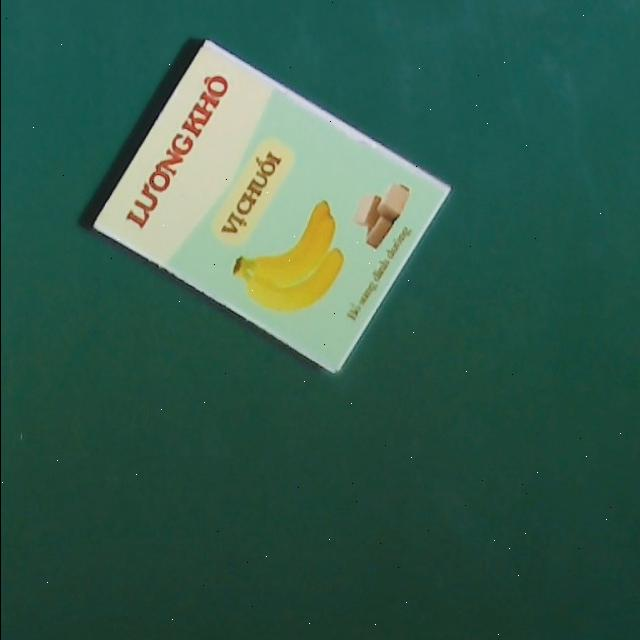chuoi: (89, 37, 449, 375)
